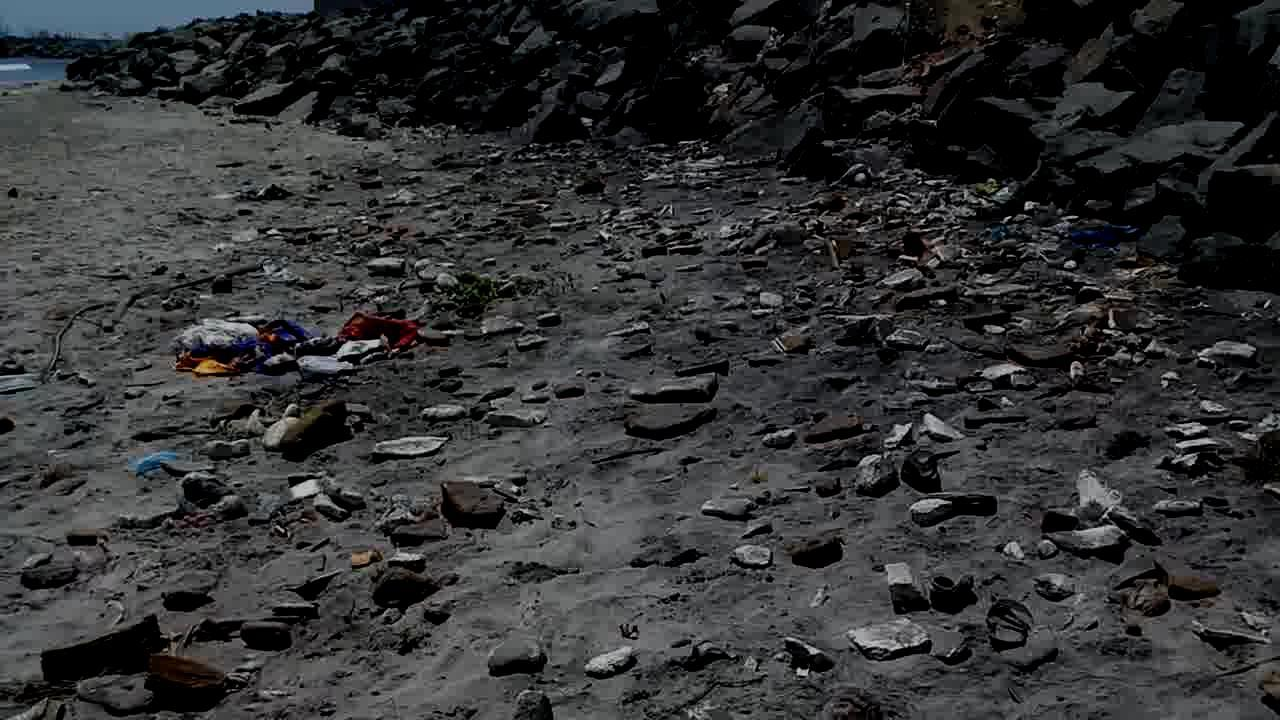large collection of objects: (659, 170, 1070, 318)
obj: (170, 312, 424, 378), (37, 612, 167, 689), (1009, 508, 1160, 557), (43, 295, 112, 383), (207, 399, 306, 456), (160, 469, 237, 532), (815, 310, 929, 352), (278, 398, 350, 462), (147, 649, 229, 704), (286, 472, 363, 526), (431, 264, 504, 320), (843, 620, 930, 665), (158, 261, 266, 297), (439, 478, 504, 531), (1234, 423, 1279, 495), (370, 566, 440, 612), (631, 372, 720, 402), (1184, 341, 1270, 371), (984, 597, 1034, 646), (887, 560, 933, 613), (850, 454, 906, 497), (488, 636, 548, 676), (1078, 472, 1120, 525), (99, 288, 144, 332), (791, 532, 846, 568), (264, 252, 316, 290), (930, 574, 974, 612), (372, 436, 451, 456), (779, 642, 828, 674), (125, 450, 180, 478), (1072, 223, 1142, 245), (1166, 572, 1221, 600), (728, 540, 776, 572), (912, 496, 957, 530), (919, 412, 967, 442), (770, 329, 816, 354), (588, 652, 633, 677), (707, 498, 760, 516), (366, 252, 411, 272), (0, 373, 39, 392), (885, 423, 913, 448), (984, 364, 1026, 380), (762, 428, 796, 446), (352, 548, 382, 568), (5, 186, 18, 200)
sand/background: (0, 0, 1279, 295)
